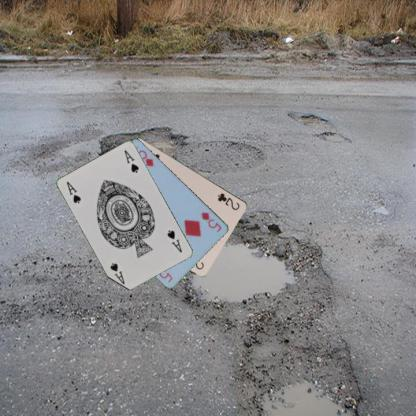2c: (215, 190, 241, 212)
5d: (199, 210, 223, 233)
As: (64, 179, 83, 205), (165, 228, 183, 254)
